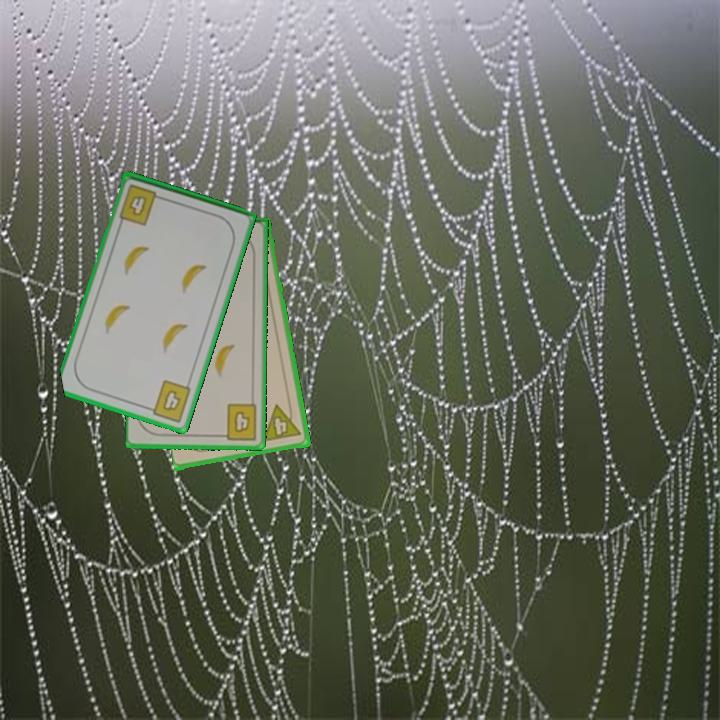4b: (142, 376, 194, 425), (116, 181, 167, 228), (216, 400, 260, 443)
4p: (260, 400, 305, 444)
